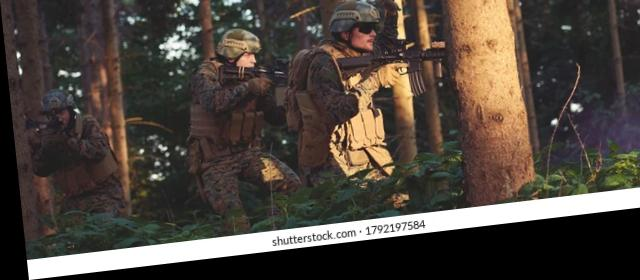other: (292, 10, 414, 196), (179, 33, 285, 212), (16, 83, 116, 219)
